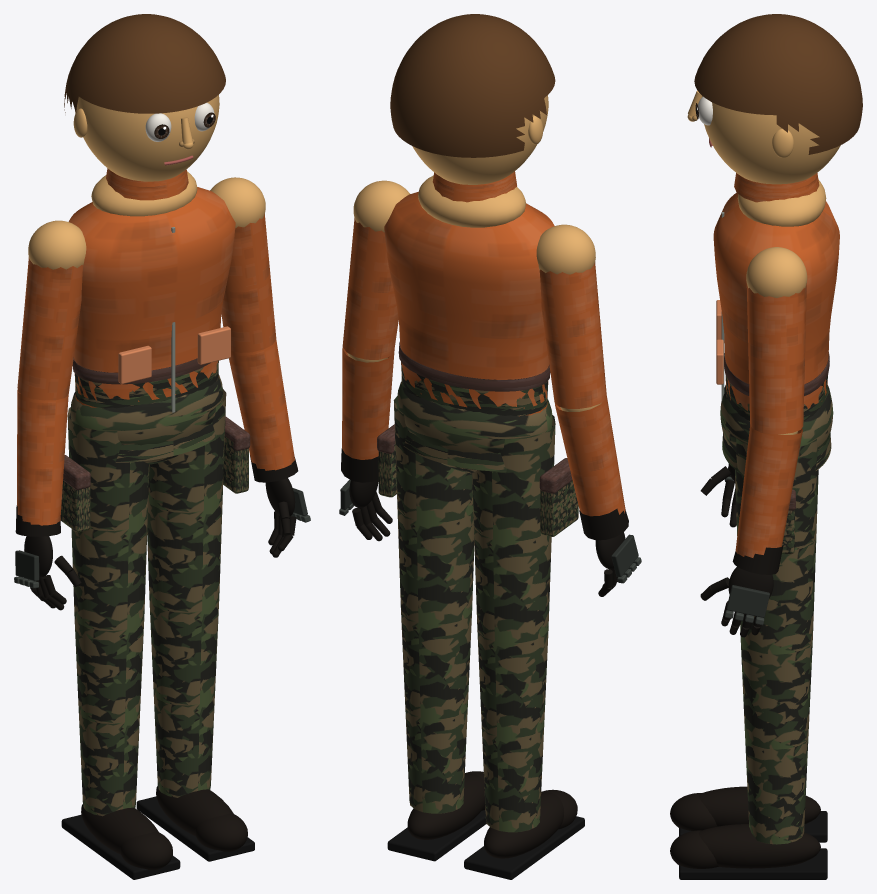
File: 04-chaussures-de-ville.glb
The picture shows the model from 3 angles, left to right: view 1: azimuth 30°, elevation 25°; view 2: azimuth 150°, elevation 25°; view 3: azimuth 270°, elevation 25°; orthographic projection. The views are drawn at different scales.
Bounding box in the file's own units: 0.6344 × 1.76 × 0.3705.
21 materials, 4 textured.
